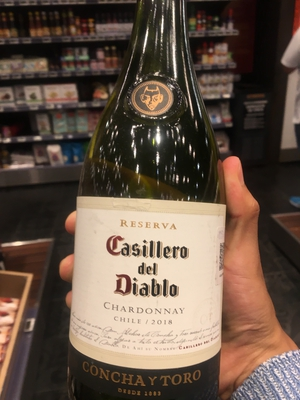casillero del diablo chardonnay: (68, 18, 236, 400)
